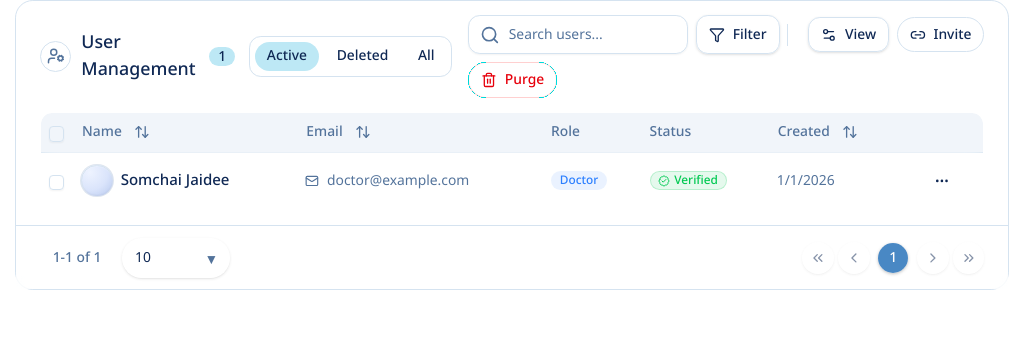
Scenario: UsersTable immediate live updates › removes the row immediately after delete
This screenshot has width=1024, height=347.
Expected: the text "doctor@example.com" is shown, [305,170,469,191]
Click the button named "open menu" in the row of "Somchai" at (942, 181), box [926,165,958,196]
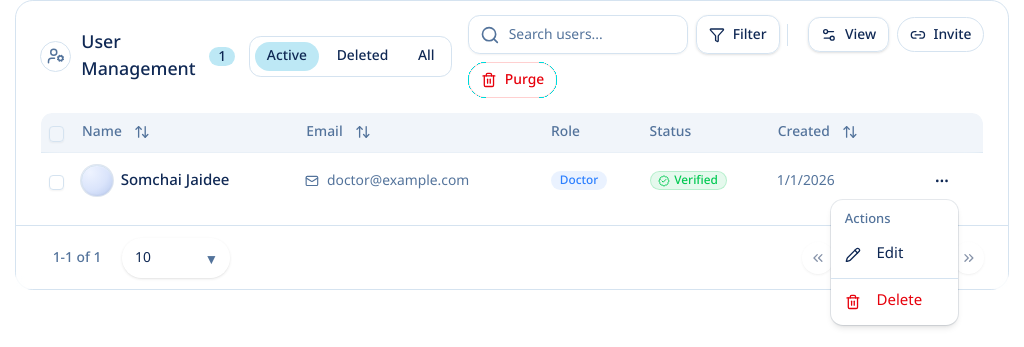
Click the menu item "Delete" at (884, 301), box [845,290,922,312]
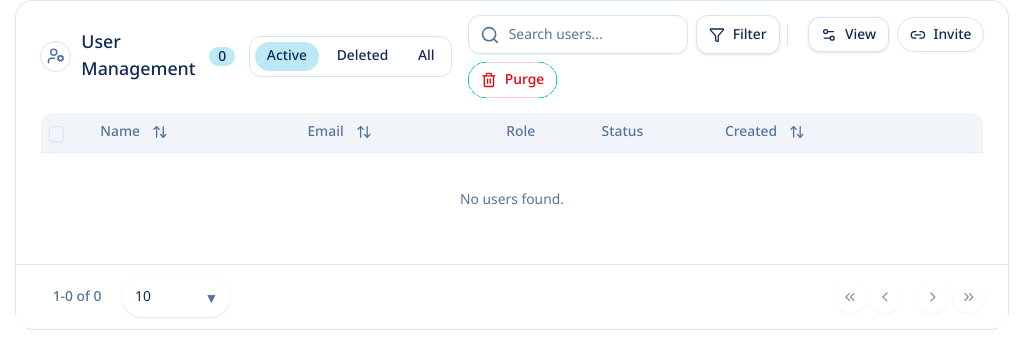
Expected: the text "doctor@example.com" is gone
